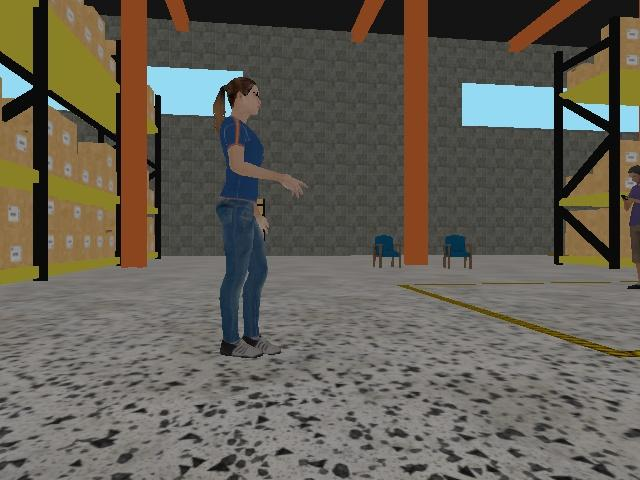chair: (443, 235, 473, 269), (372, 235, 402, 268)
person: (212, 76, 310, 357), (623, 164, 640, 291)
